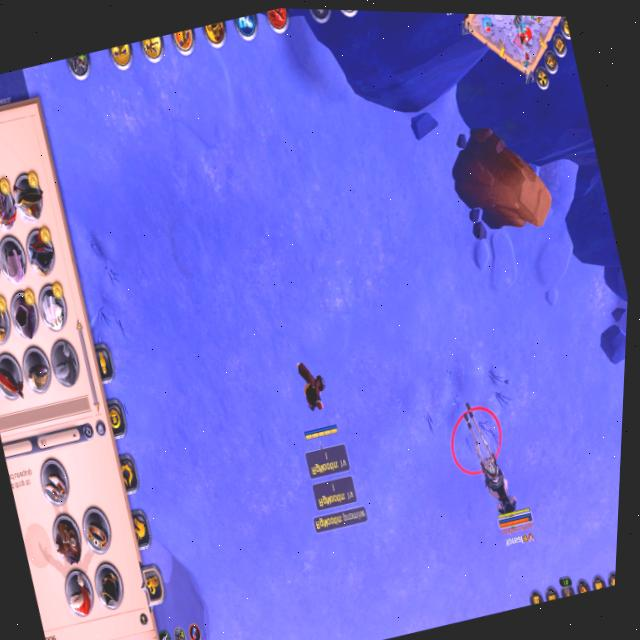red: (428, 388, 552, 563), (274, 335, 349, 452)
tree: (433, 101, 571, 251)
